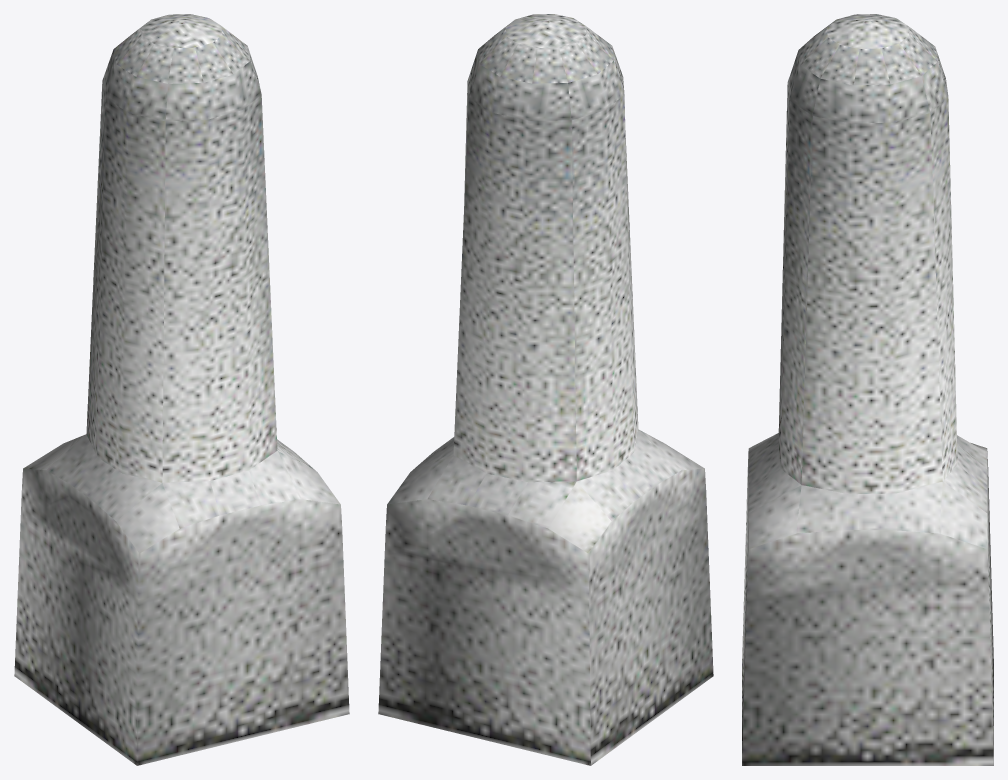
Rendered from Paloacera2.fbx.
3 renders of one model, left to right at view 1: azimuth 30°, elevation 25°; view 2: azimuth 150°, elevation 25°; view 3: azimuth 270°, elevation 25°, orthographic. The views are drawn at different scales.
Visible parts, largest first — view 1: concrete_retro_bollard_light; view 2: concrete_retro_bollard_light; view 3: concrete_retro_bollard_light.
Part boxes in pixels (x1,y1,x2,y2): concrete_retro_bollard_light: [14, 14, 349, 765]; concrete_retro_bollard_light: [378, 14, 713, 765]; concrete_retro_bollard_light: [742, 14, 993, 765].
Size of the model in its own units: 42.86 by 130 by 42.86.
Materials: 1 (1 with a texture image).
